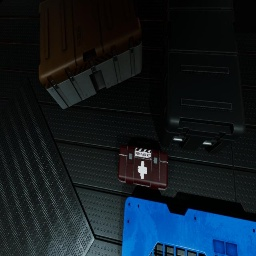FirstAidBox ,: (118, 140, 168, 191)
